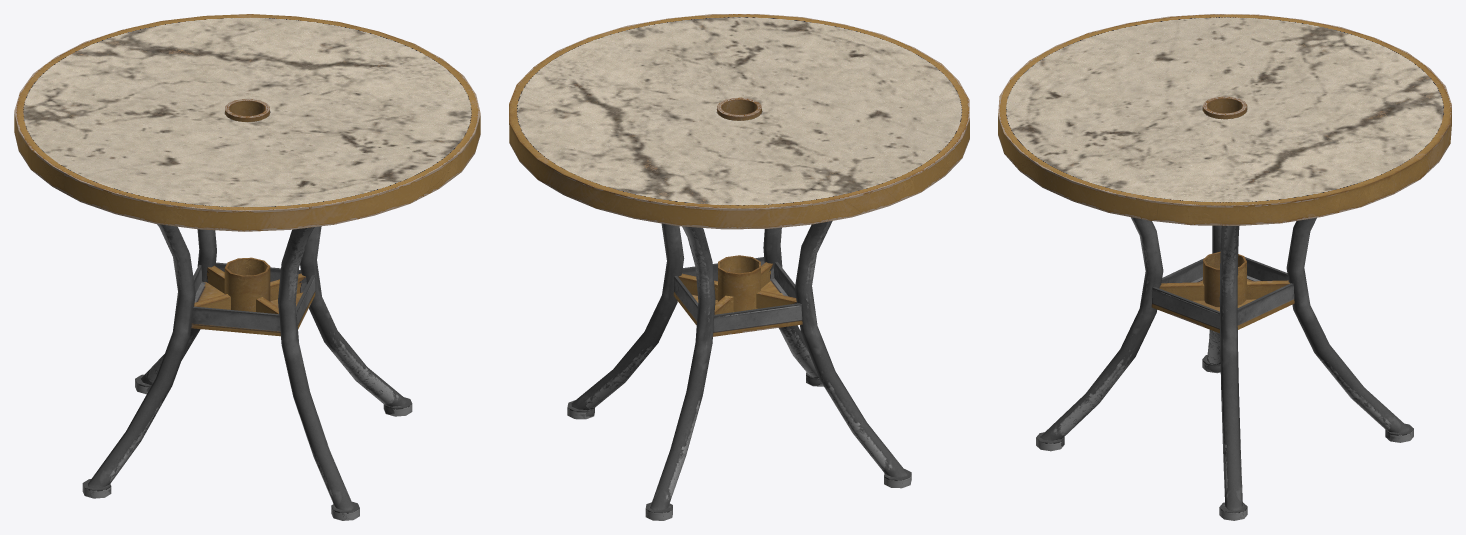
3 views of the same model, side by side, from view 1: azimuth 30°, elevation 25°; view 2: azimuth 150°, elevation 25°; view 3: azimuth 270°, elevation 25° (orthographic). The views are drawn at different scales.
Visible parts, largest first — view 1: SM_cafetable; view 2: SM_cafetable; view 3: SM_cafetable.
Boxes of the visible parts, x1,y1,x2,y2 form: SM_cafetable: [14, 14, 480, 520]; SM_cafetable: [509, 14, 969, 520]; SM_cafetable: [998, 14, 1451, 520].
Size of the model in its own units: 122 by 99.6 by 122.
